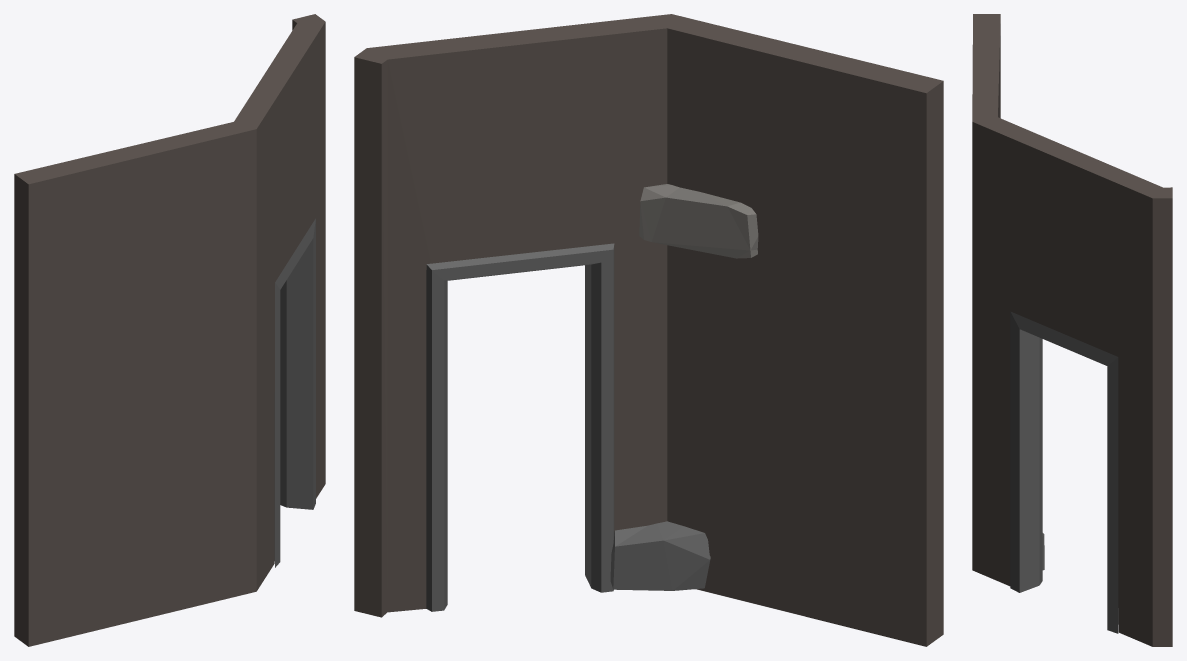
File: MCastle_OctWall_Int_10.FBX
The picture shows the model from 3 angles, left to right: view 1: azimuth 30°, elevation 25°; view 2: azimuth 150°, elevation 25°; view 3: azimuth 270°, elevation 25°; orthographic projection. The views are drawn at different scales.
Parts seen in each view (by area): view 1: MCastle_OctWall_Int_10_LOD0; view 2: MCastle_OctWall_Int_10_LOD0; view 3: MCastle_OctWall_Int_10_LOD0.
Boxes of the visible parts, box(x1,y1,x2,y2) form: MCastle_OctWall_Int_10_LOD0: box(14, 14, 325, 646); MCastle_OctWall_Int_10_LOD0: box(354, 14, 943, 646); MCastle_OctWall_Int_10_LOD0: box(972, 14, 1172, 646).
Size of what is drawn, in the model's own units: 155 by 177 by 71.11.
